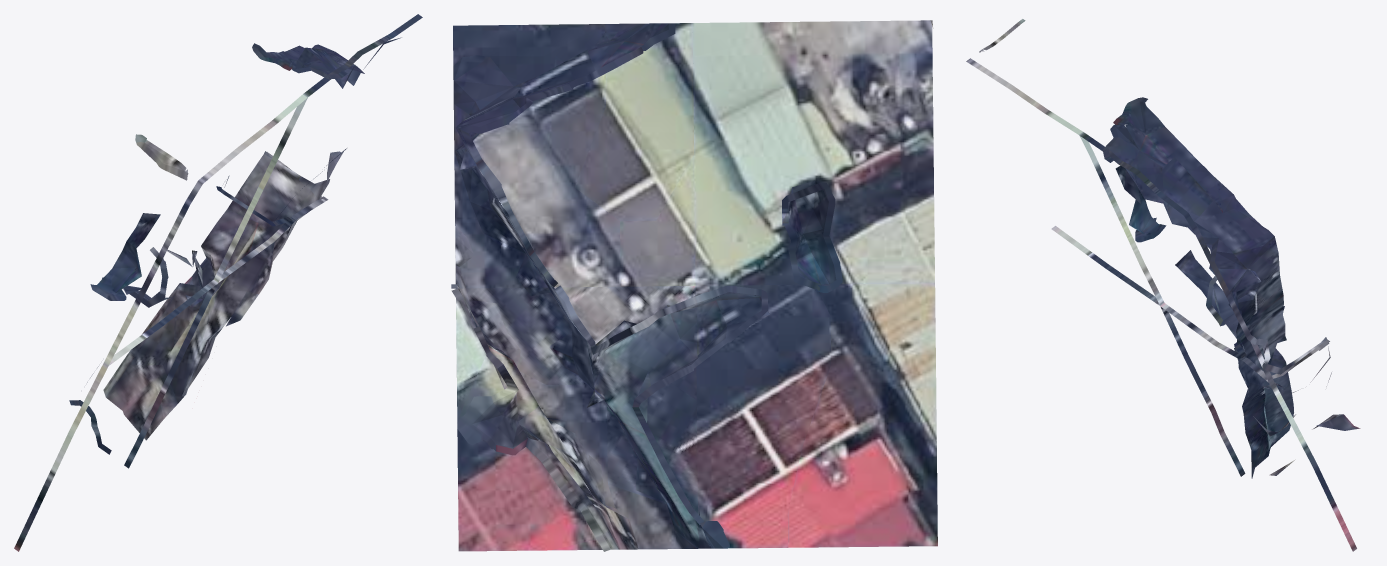
The picture shows the model from 3 angles, left to right: view 1: azimuth 30°, elevation 25°; view 2: azimuth 150°, elevation 25°; view 3: azimuth 270°, elevation 25°; orthographic projection. The views are drawn at different scales.
Bounding box in the file's own units: 38.28 × 37.62 × 33.39.
Materials: 1 (1 with a texture image).
